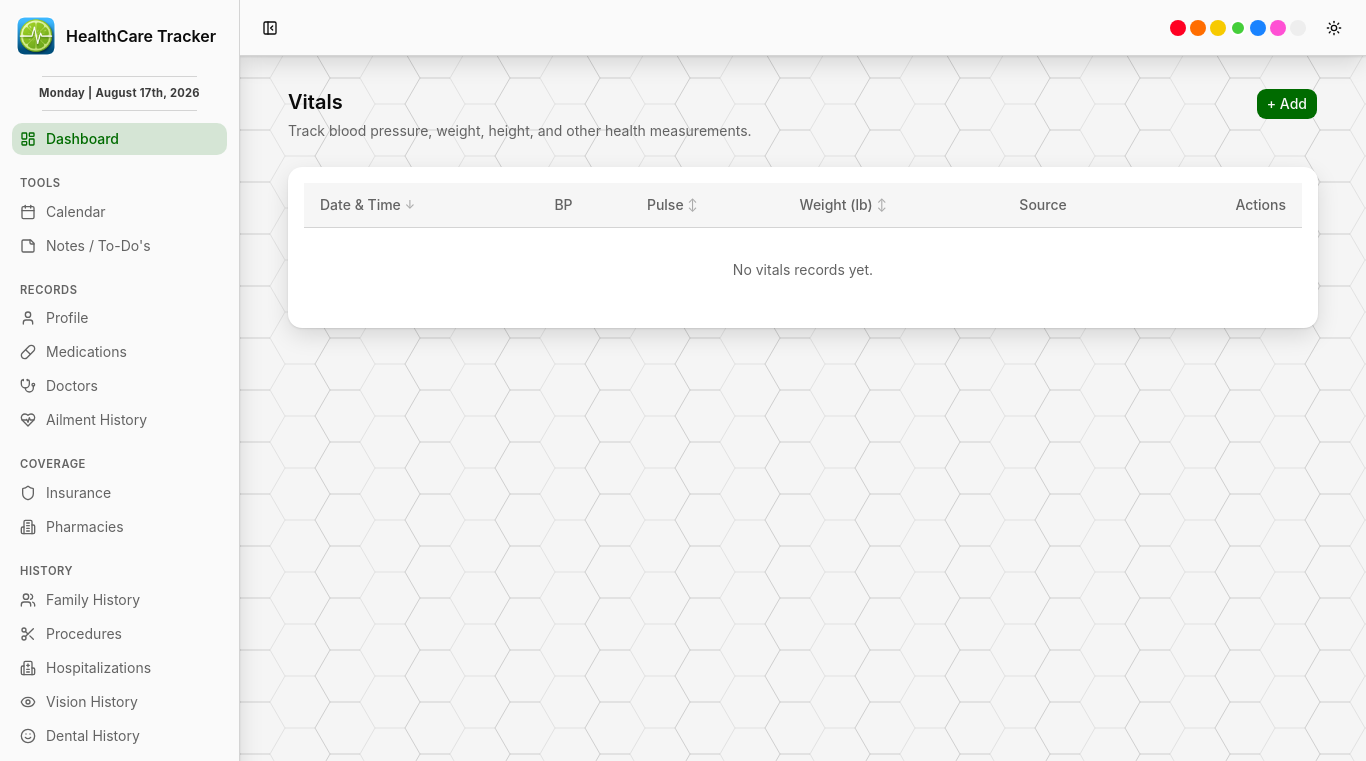
VitalsPage › auto-calculates BMI in the modal as height and weight are entered
Click the button "+ Add" at (1287, 104), box [1256,88,1318,120]
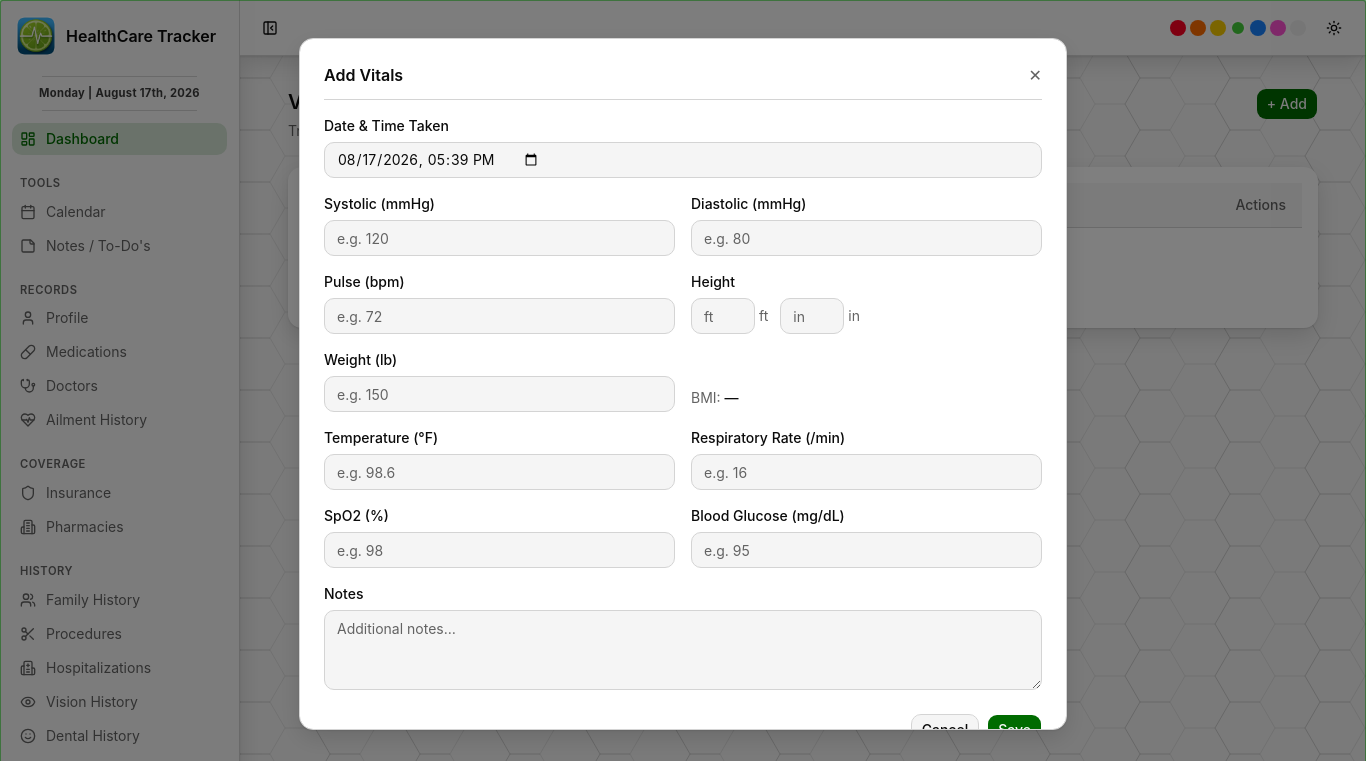
Type "5" into the number field with placeholder "ft" at (723, 316), box [691,298,755,334]
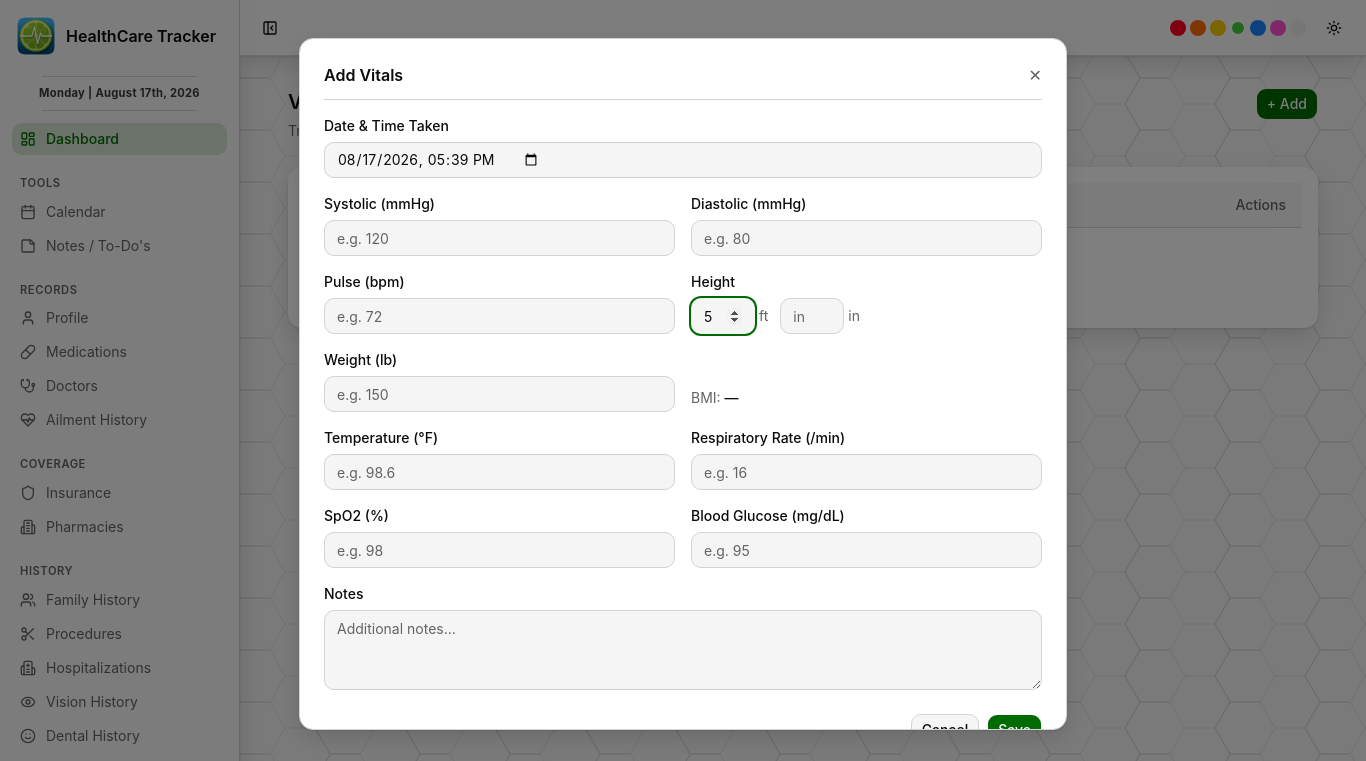
Type "5" into the number field with placeholder "in" at (812, 316), box [780,298,844,334]
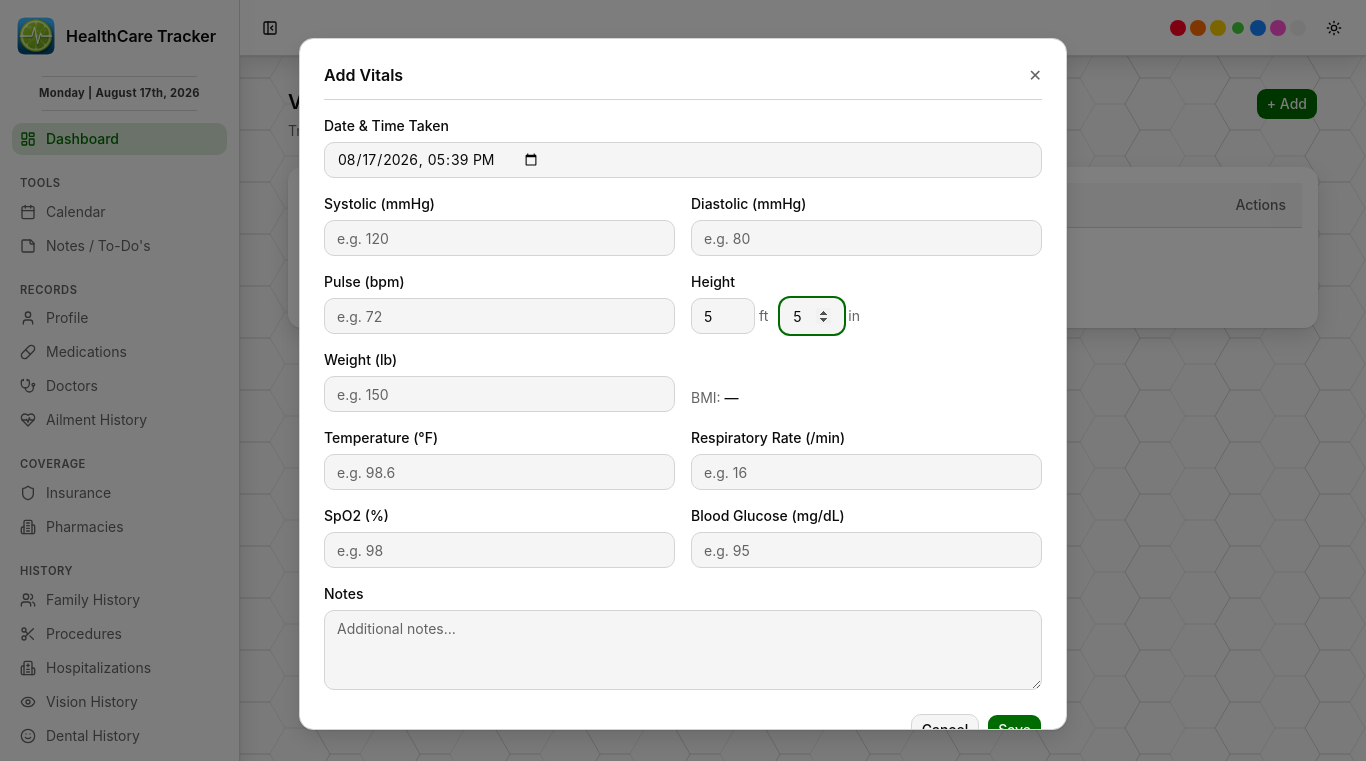
Type "150" into the number field labelled "Weight (lb)" at (500, 394), box [324,376,675,412]
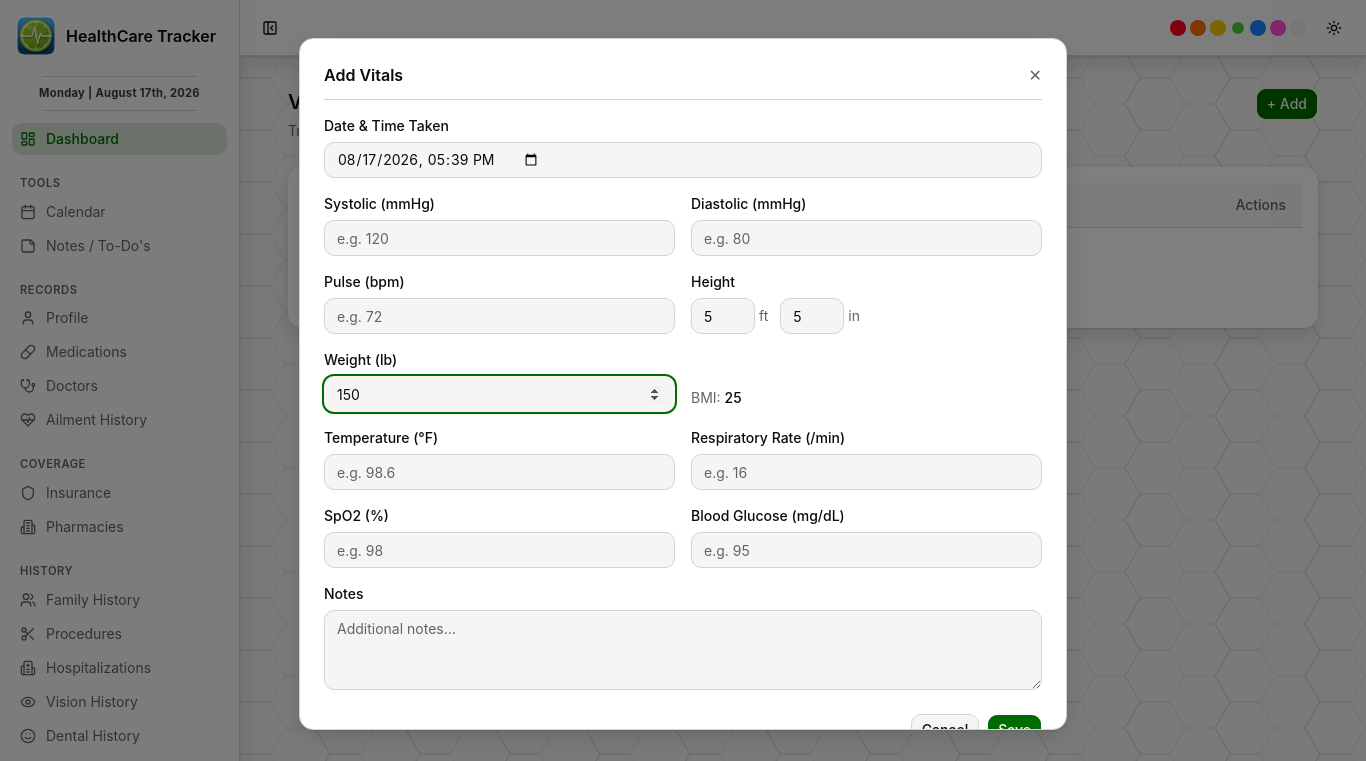
Now the text "25" is shown, box [724,389,742,406]
